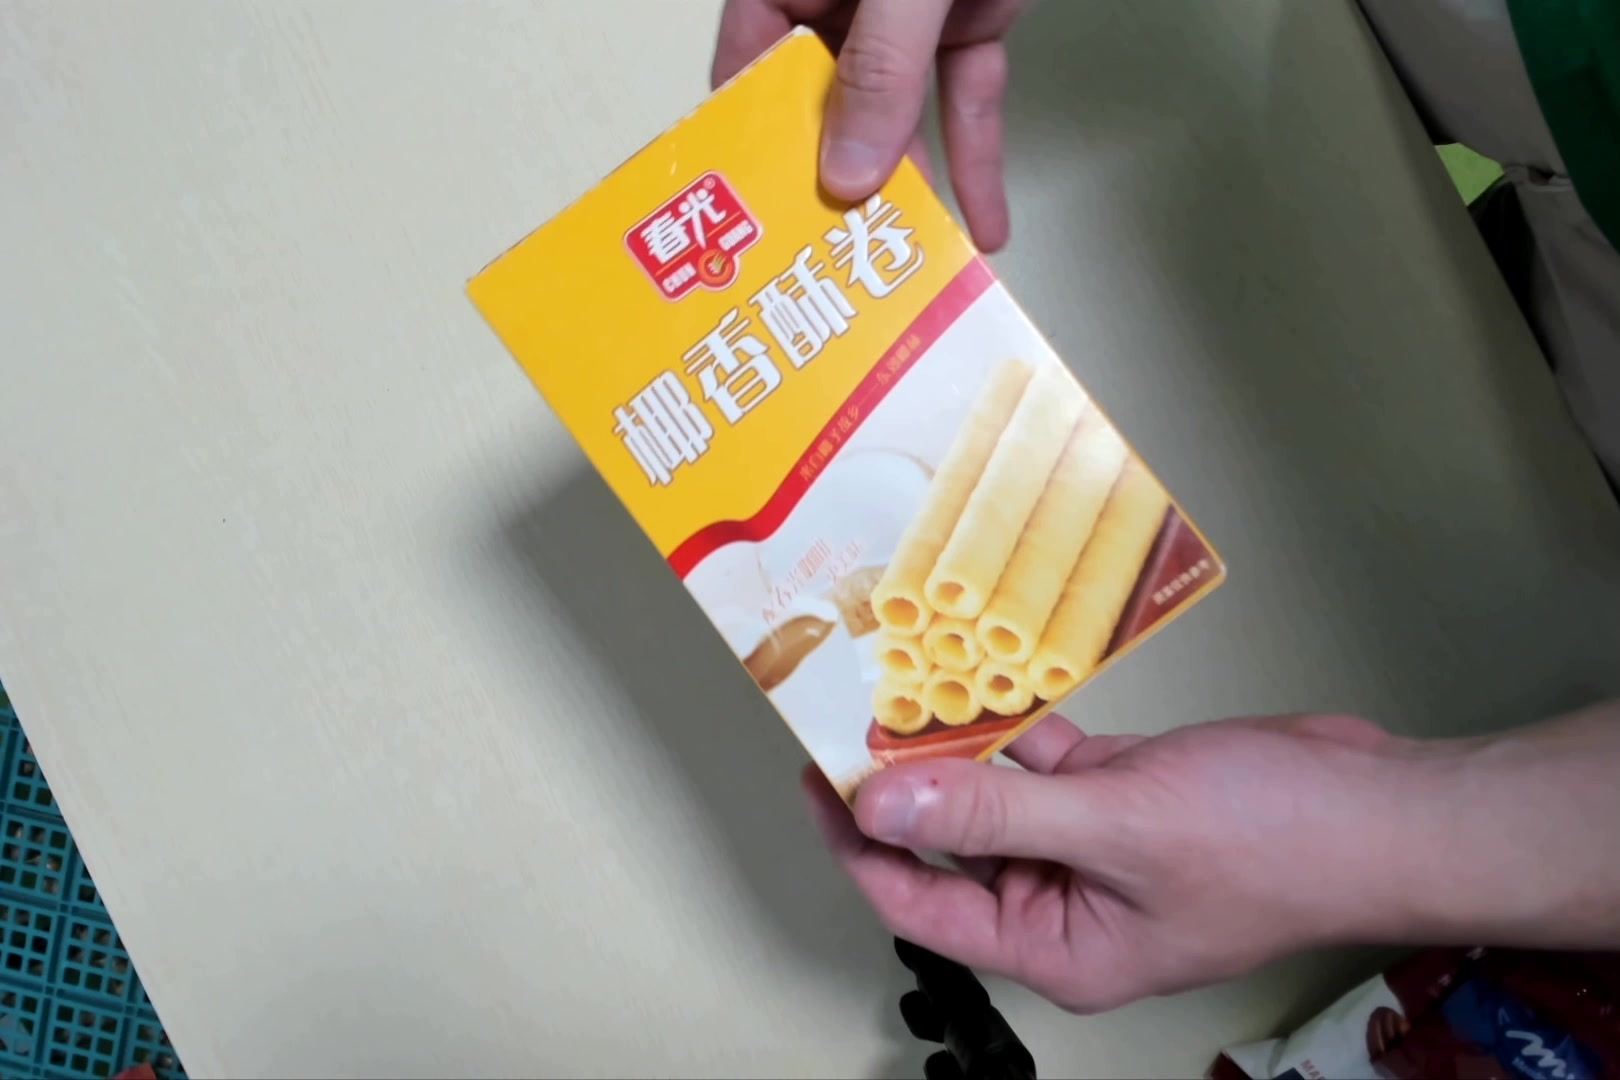BiscuitsCrackersCookies_0-99g_NonHalal_NonHealthy: (462, 27, 1226, 837)
